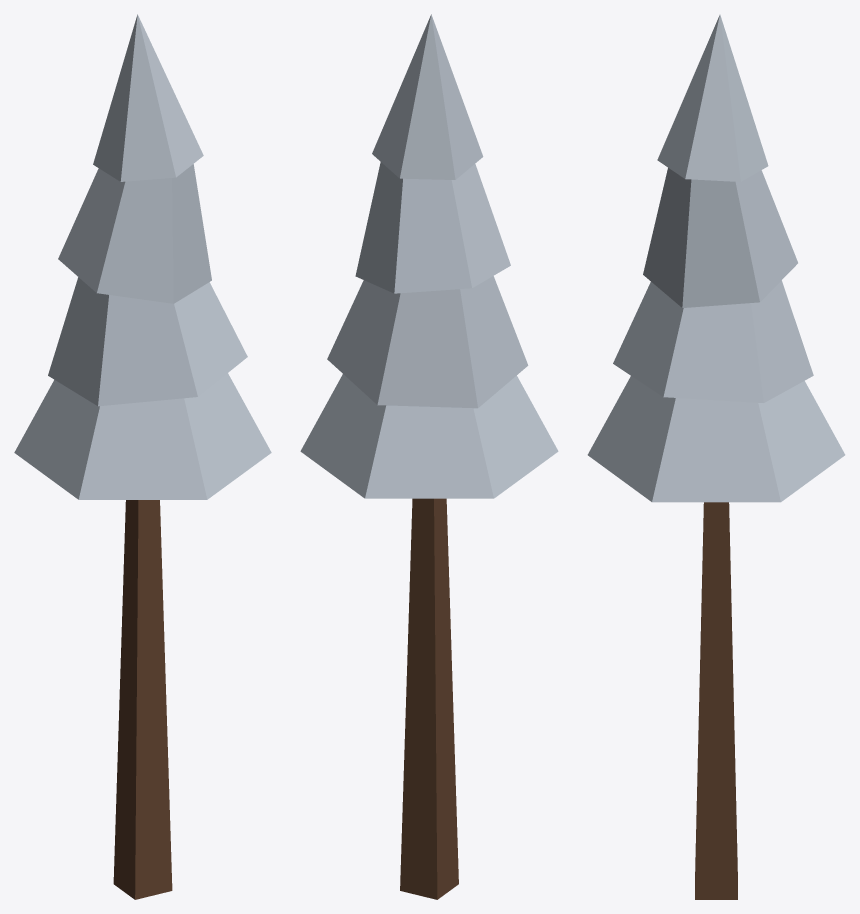
The model's file is nk_snow_pinetall_d.glb.
3 views of the same model, side by side, from view 1: azimuth 30°, elevation 25°; view 2: azimuth 150°, elevation 25°; view 3: azimuth 270°, elevation 25° (orthographic).
Visible parts, largest first — view 1: tree_pineTallD; view 2: tree_pineTallD; view 3: tree_pineTallD.
Boxes of the visible parts, x1,y1,x2,y2 form: tree_pineTallD: (14,14,271,899); tree_pineTallD: (300,14,558,899); tree_pineTallD: (587,14,845,899).
Size of the model in its own units: 2.55 by 11 by 2.94.
